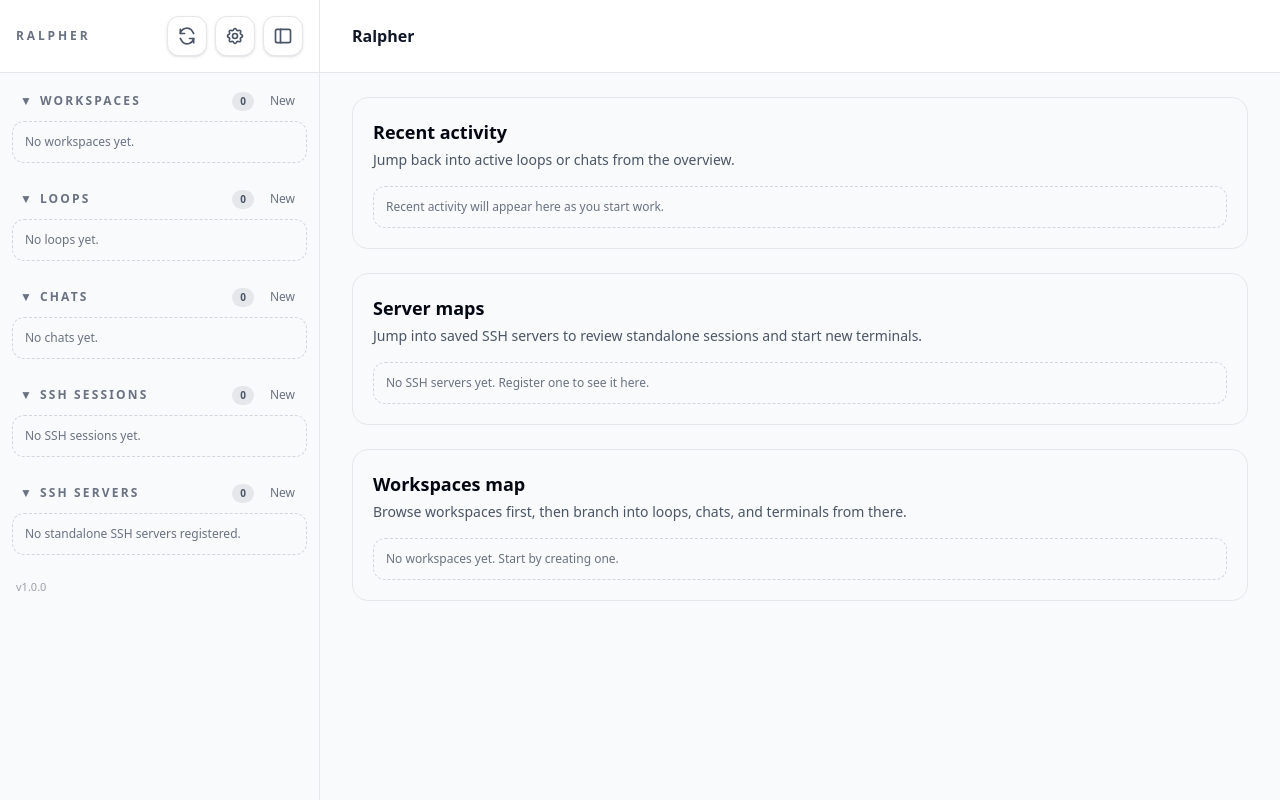
workspace management scenario › clicking New Workspace opens the shell composer
Expected: the heading "Ralpher" is shown, [352, 24, 414, 48]
Click the 1st button "New": (282,101) [262, 89, 303, 113]
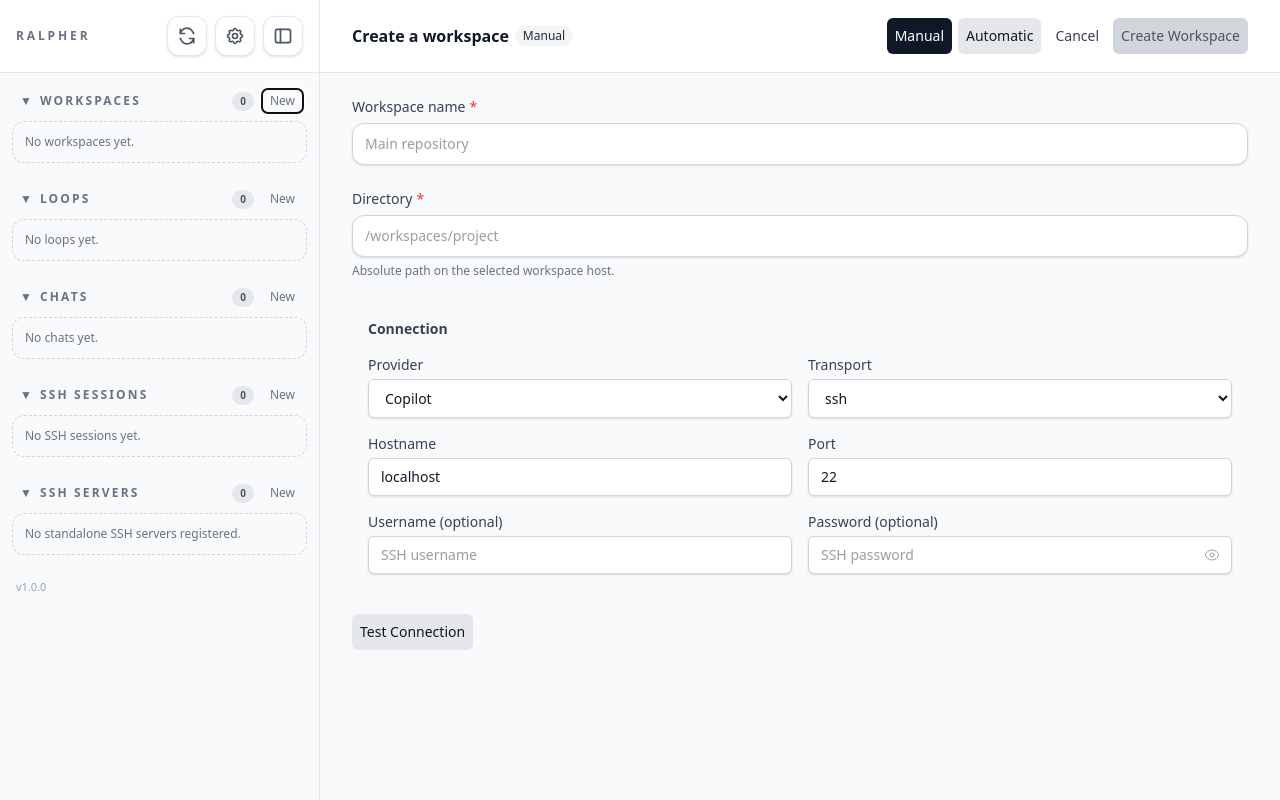
Expected: the heading "Create a workspace" is shown, [352, 24, 509, 48]
Expected: the field with id "workspace-name" is shown, [352, 123, 1248, 165]
Expected: the field with id "workspace-directory" is shown, [352, 215, 1248, 257]
